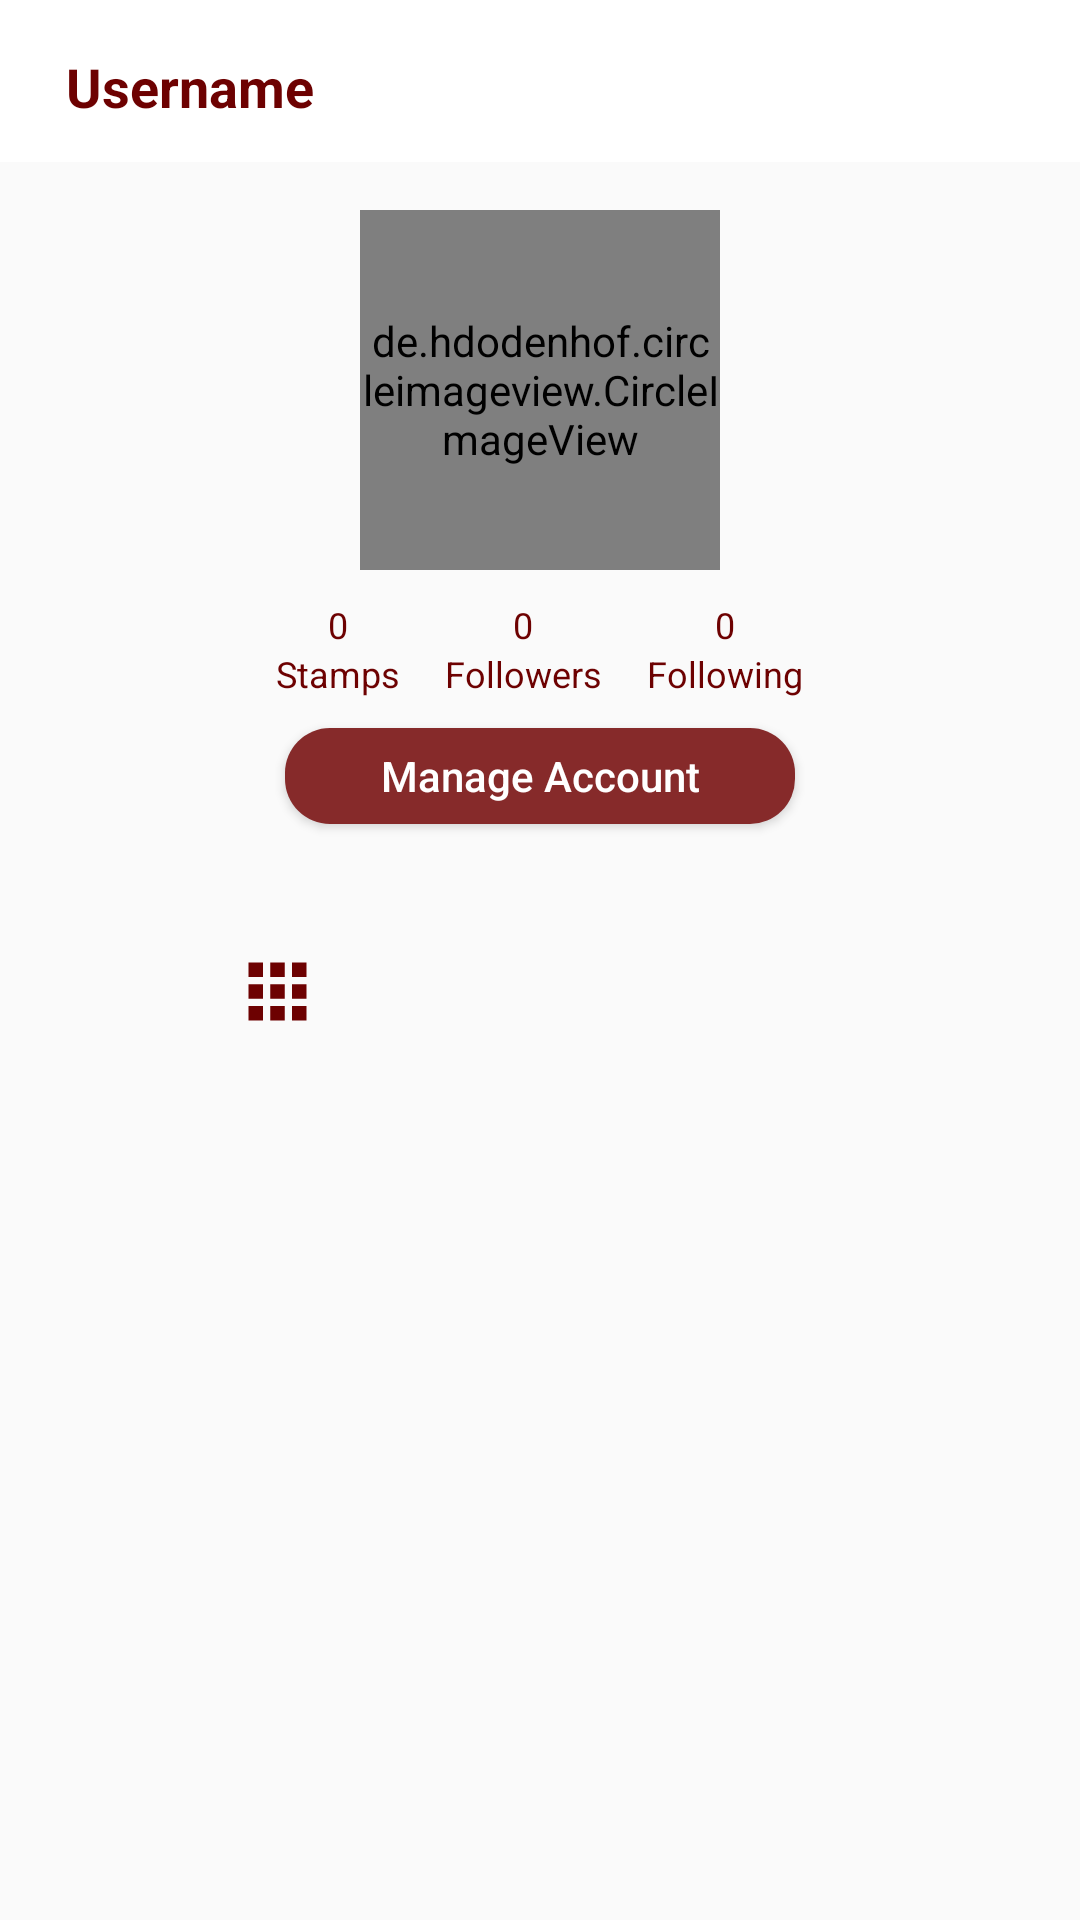

Named icons in this screenshot (1080w x 1920h) and their bounding boxes, (x1, y1, x2, y2):
grid: (248, 962, 307, 1021)
